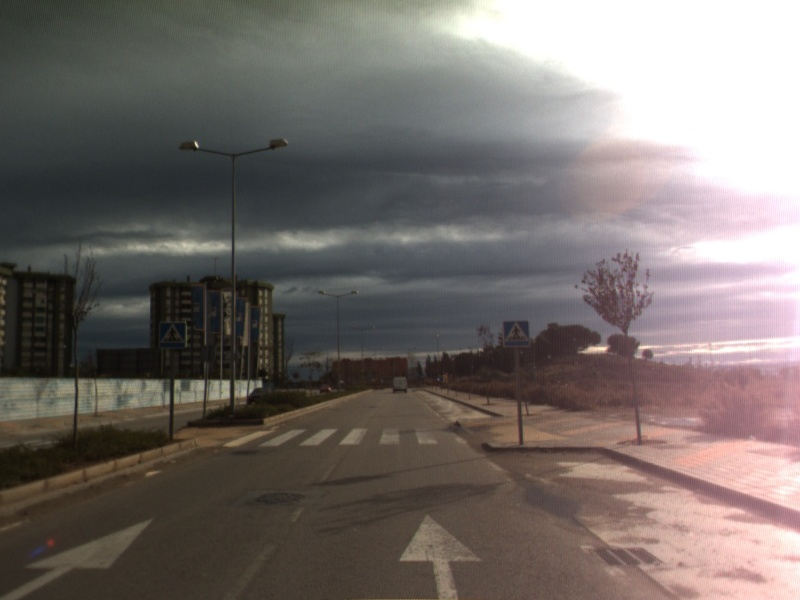STRAIGHT: (1, 514, 156, 600), (397, 511, 486, 600)
